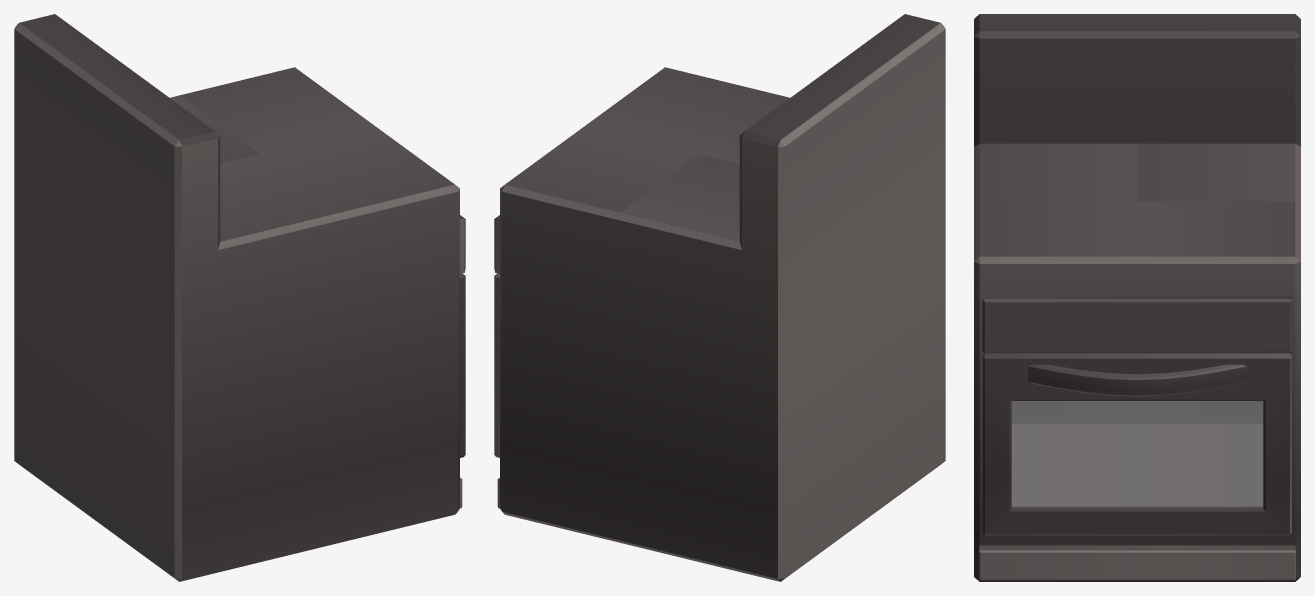
Rendered from Oven.fbx.
3 views of the same model, side by side, from view 1: azimuth 30°, elevation 25°; view 2: azimuth 150°, elevation 25°; view 3: azimuth 270°, elevation 25° (orthographic).
Visible parts, largest first — view 1: oven, ovendoor; view 2: oven, ovendoor; view 3: oven, ovendoor.
Part boxes in pixels (x1=…): oven: x1=14, y1=14, x2=465, y2=581; ovendoor: x1=460, y1=273, x2=465, y2=457; oven: x1=494, y1=14, x2=945, y2=581; ovendoor: x1=494, y1=273, x2=499, y2=457; oven: x1=974, y1=14, x2=1300, y2=581; ovendoor: x1=983, y1=353, x2=1291, y2=535.
Size of the model in its own units: 92.04 by 120 by 81.88.
